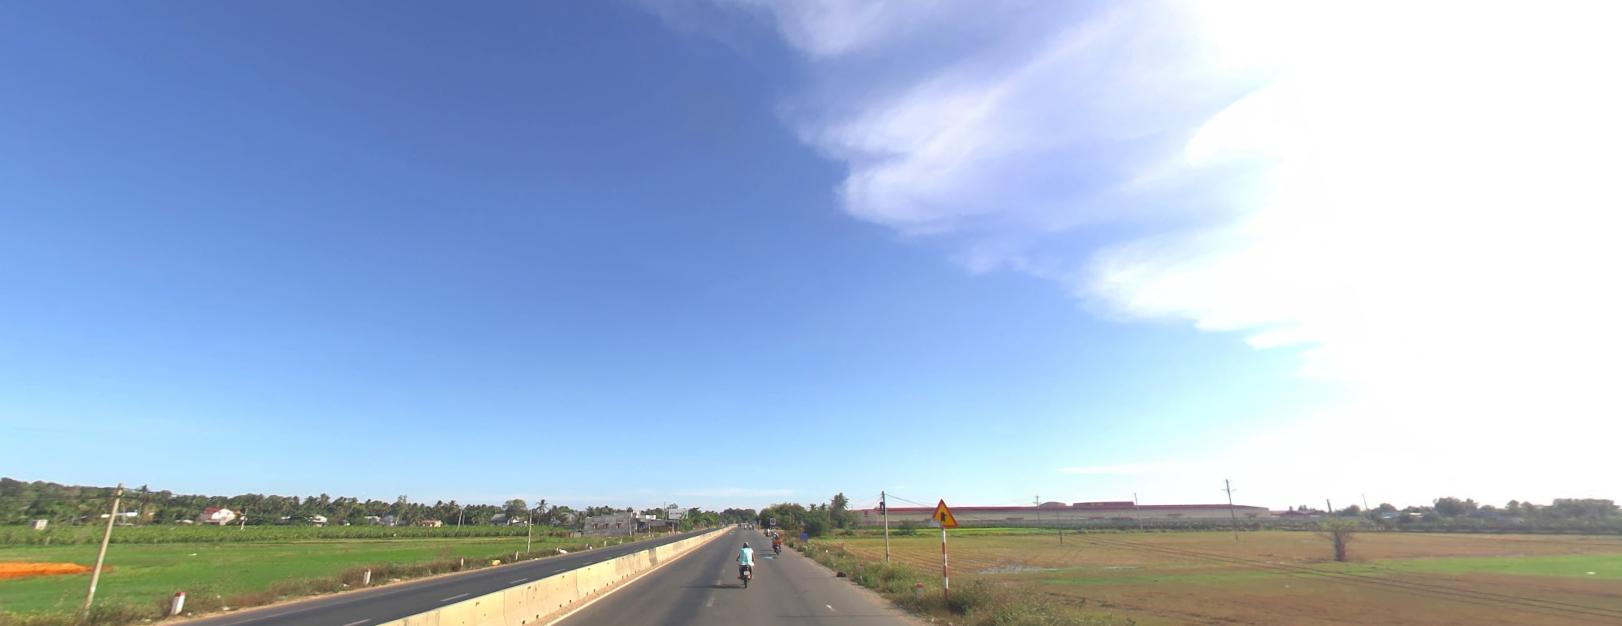Nguy hiem: (928, 497, 958, 526)
